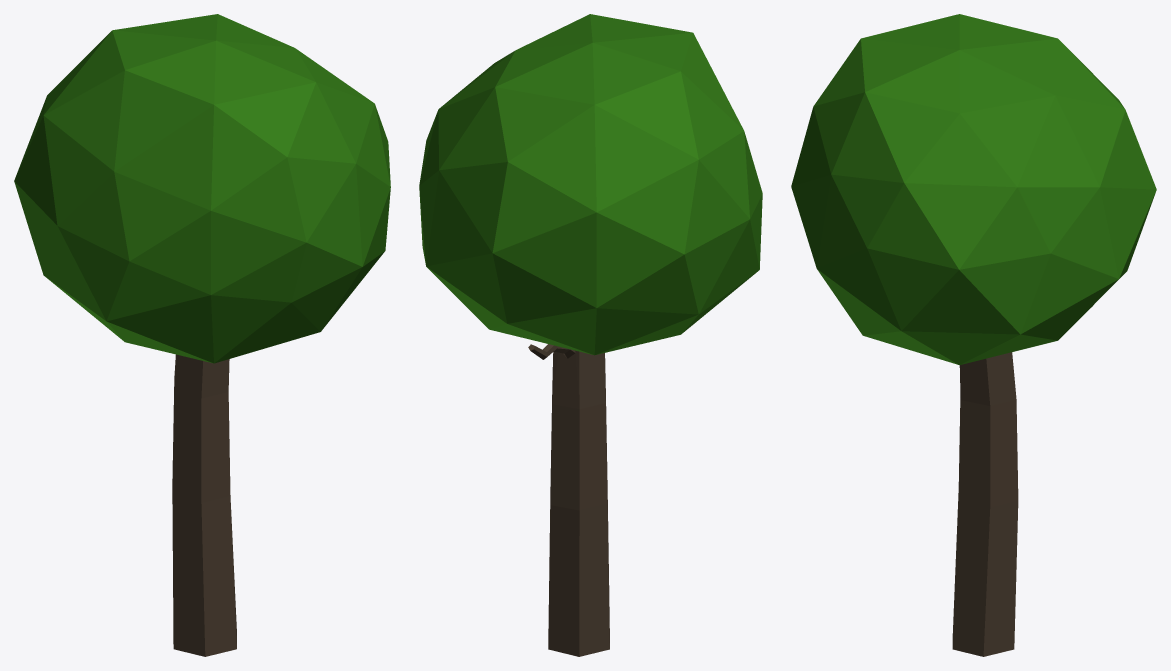
The model's file is Tree4.fbx.
The picture shows the model from 3 angles, left to right: view 1: azimuth 30°, elevation 25°; view 2: azimuth 150°, elevation 25°; view 3: azimuth 270°, elevation 25°; orthographic projection. The views are drawn at different scales.
Parts seen in each view (by area): view 1: Tree_4_LOD0; view 2: Tree_4_LOD0; view 3: Tree_4_LOD0.
Part boxes in pixels (box(x1,y1,x2,y2)): Tree_4_LOD0: box(14, 14, 390, 656); Tree_4_LOD0: box(419, 14, 762, 656); Tree_4_LOD0: box(791, 14, 1156, 656).
Size of what is drawn, in the model's own units: 150 by 263 by 148.
